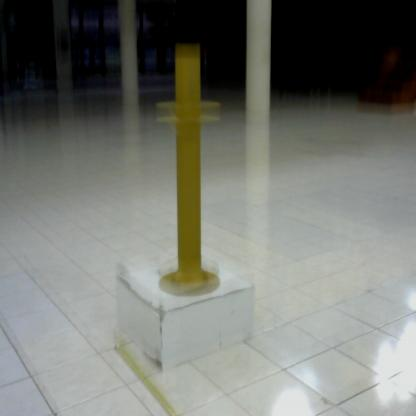pole: (153, 35, 233, 305)
